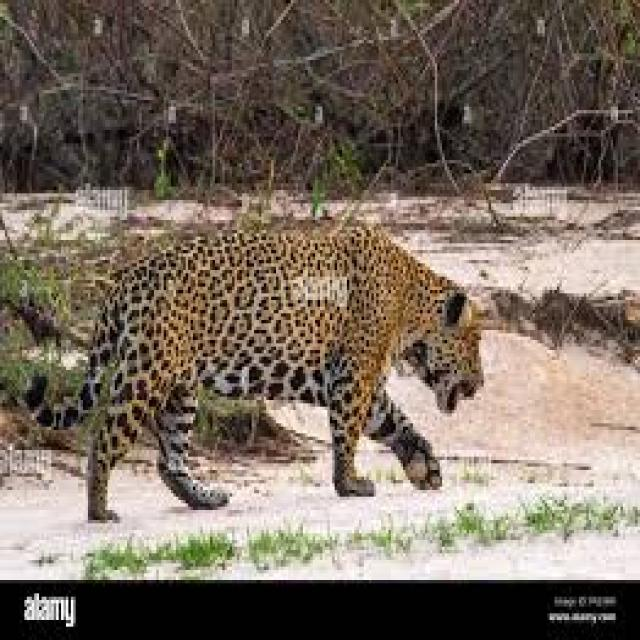Jaguar: (27, 220, 486, 513)
